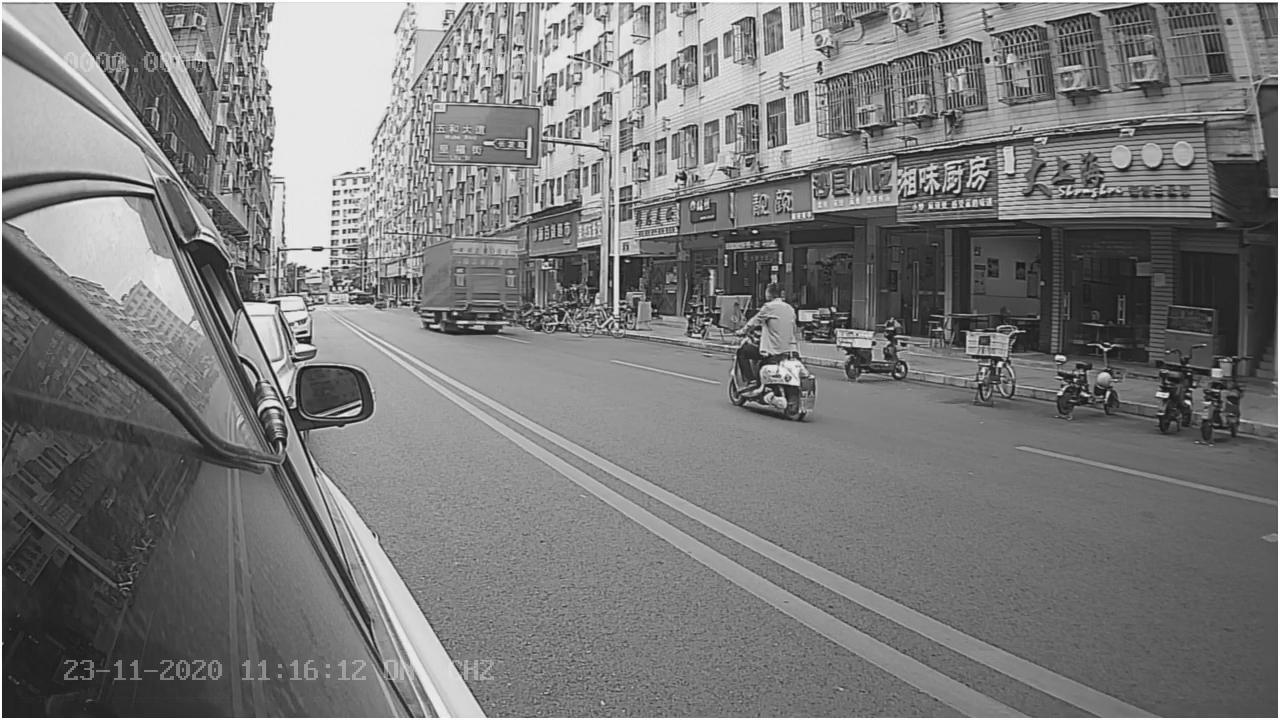person: (734, 280, 805, 355)
